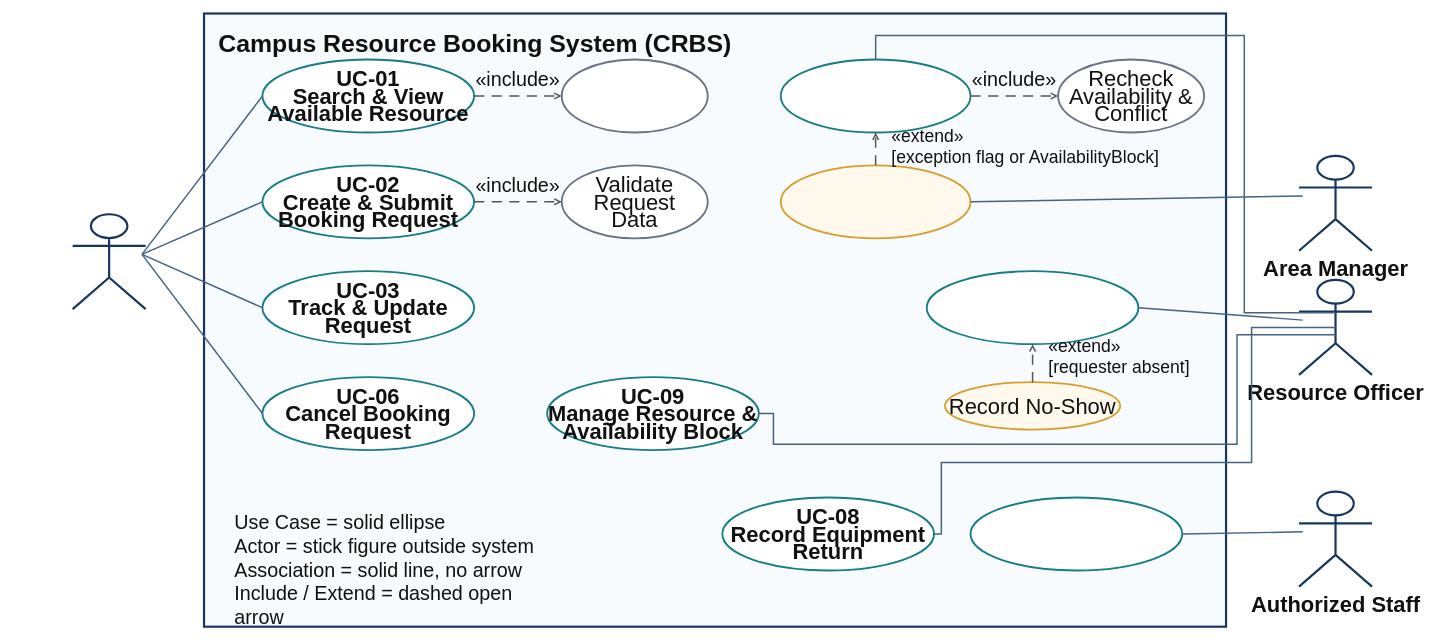
The diagram is 1436 pixels wide and 640 high, and some of its shapes have lost their labels. Each missing label, with the centre of its shape:
Check Availability & Conflict: pixel 634 95
Student Requester: pixel 108 261
UC-04 Review Standard Request: pixel 875 95
UC-05 Handle Exception Request: pixel 875 201
UC-07 Record Equipment Handover: pixel 1032 307
UC-10 View History & Audit Trail: pixel 1076 533
